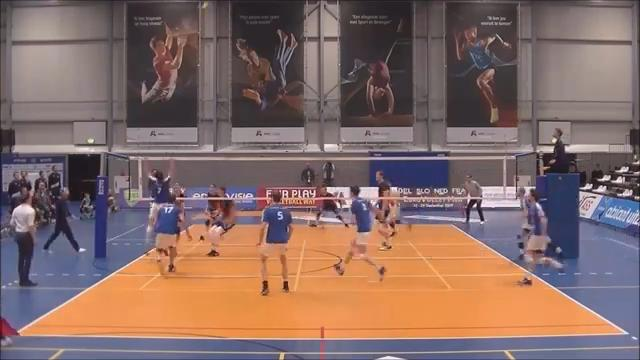muro: (142, 154, 176, 256)
